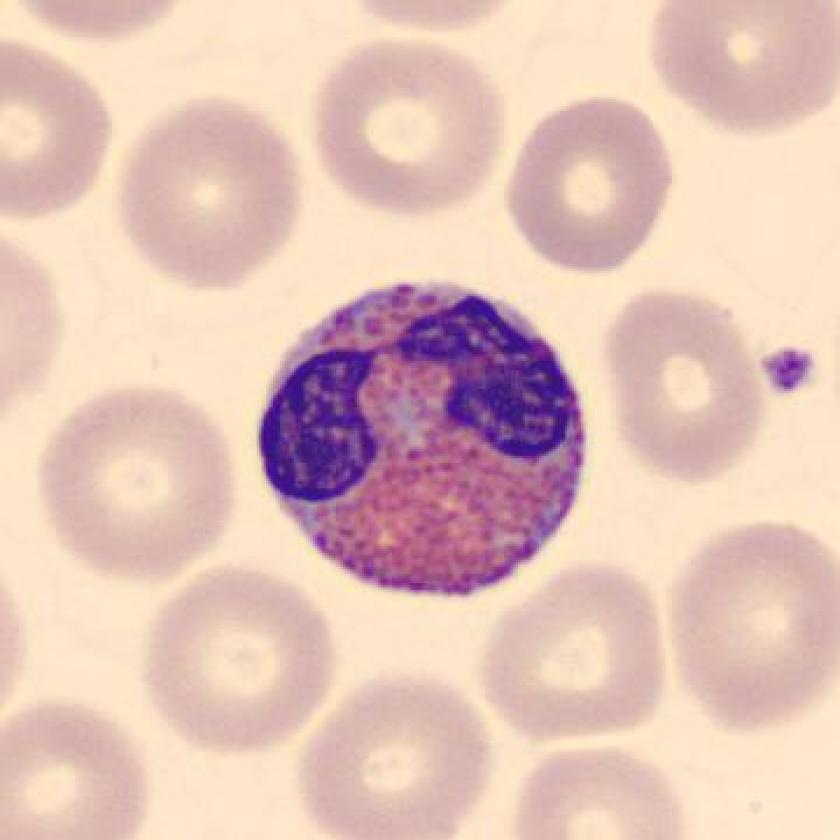eosinophil: (249, 260, 599, 610)
